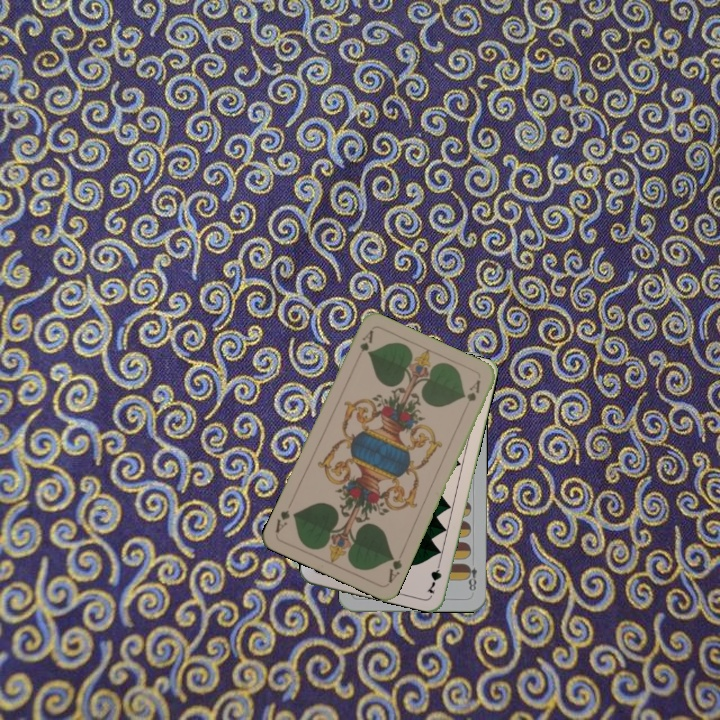E8: (462, 560, 480, 596)
G7: (423, 556, 444, 596)
GA: (352, 326, 376, 364), (384, 547, 406, 586)
